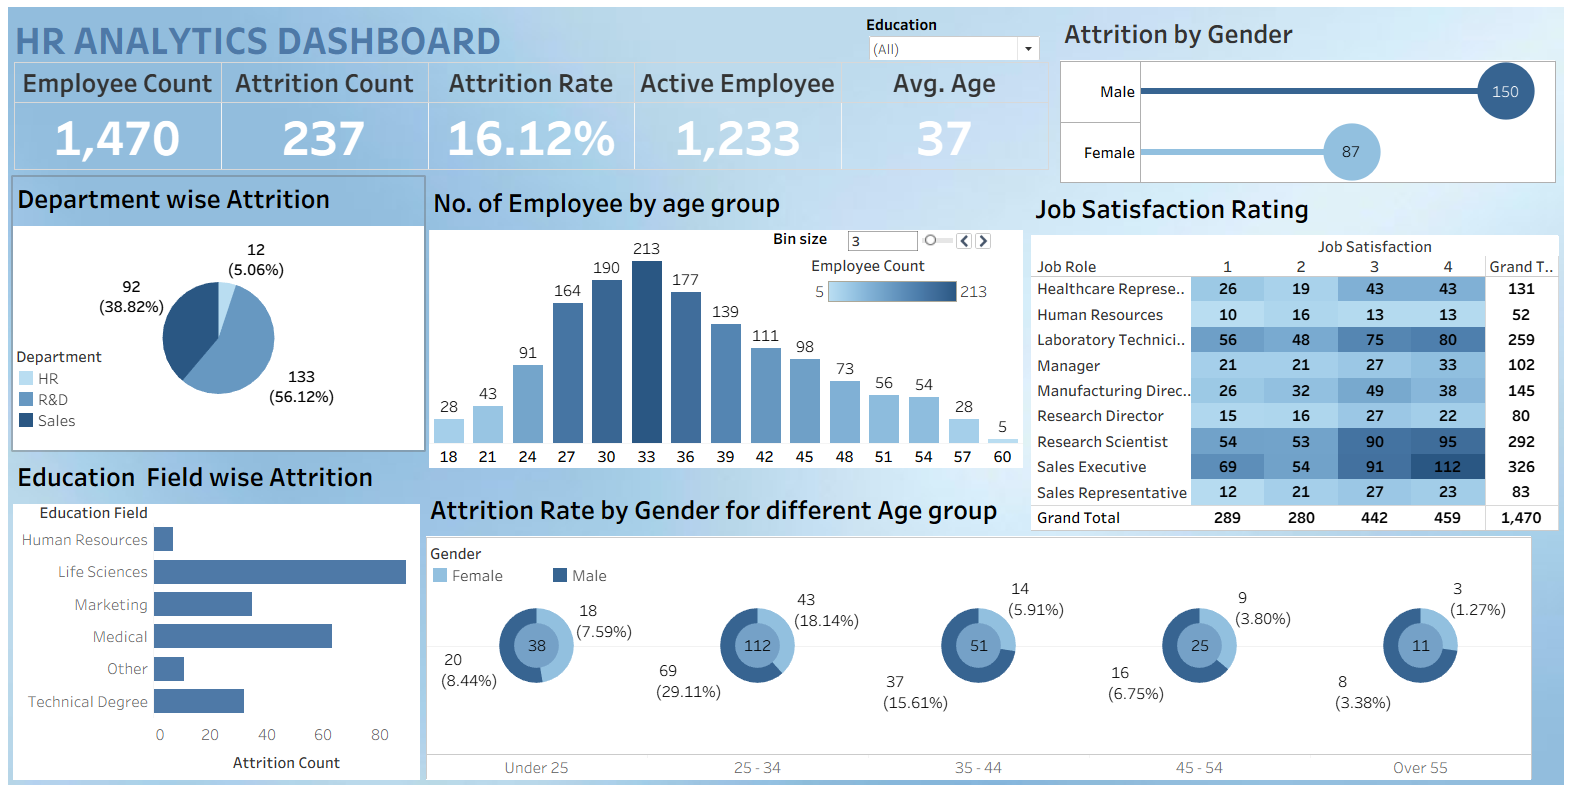

This screenshot's page, from the dashboard's own definition file:
{"tool":"tableau","page":{"name":"HR  Dashboard","canvas":[1580,900],"ordinal":0},"visuals":[{"type":"image","param":"Image/Download Free Vectors, Images, Photos & Videos _ Vecteezy.jpeg","box":[8,8,1564,884]},{"type":"text","box":[15,64,895,58]},{"type":"worksheet","title":"Attrition by Gender","mark":"Automatic","rows":["Gender"],"cols":["Calculation_0597603527974912","Calculation_0597603527974912"],"box":[1064,66,496,171]},{"type":"filter","title":"KPI","param":"[federated.1xape3u1tzvrn013wonk01smsq2d].[none:Education:nk]","box":[870,68,177,46]},{"type":"worksheet","title":"KPI","mark":"Automatic","box":[18,116,1035,108]},{"type":"worksheet","title":"Department wise Attrition","mark":"Pie","box":[17,231,411,273]},{"type":"worksheet","title":"No. of Employee by age group","mark":"Automatic","rows":["Employee Count"],"cols":["Age (bin)"],"box":[433,235,594,287]},{"type":"worksheet","title":"Job Satisfaction Rating","mark":"Square","rows":["Job Role"],"cols":["Job Satisfaction"],"box":[1035,241,528,344]},{"type":"parameter","param":"[Parameters].[Parameter 1]","box":[777,282,221,28]},{"type":"legend","title":"No. of Employee by age group","param":"[federated.1xape3u1tzvrn013wonk01smsq2d].[sum:Employee Count:qk]","box":[815,309,181,53]},{"type":"legend","title":"Department wise Attrition","param":"[federated.1xape3u1tzvrn013wonk01smsq2d].[none:Department:nk]","box":[20,400,114,88]},{"type":"worksheet","title":"Education  Field wise Attrition","mark":"Automatic","rows":["Education Field"],"cols":["Calculation_0597603527974912"],"box":[17,509,407,325]},{"type":"worksheet","title":"Attrition Rate by Gender for different Age group","mark":"Pie","rows":["Calculation_0597604158767109","Calculation_0597604158877703"],"cols":["CF_age band"],"box":[430,542,1106,292]},{"type":"legend","title":"Attrition Rate by Gender for different Age group","param":"[federated.1xape3u1tzvrn013wonk01smsq2d].[none:Gender:nk]","box":[434,597,366,43]}]}

Visuals, with their boxes on the page's 1580x900 design canvas (x1, y1, x2, y2). These are canvas units, not pixel positions in the 1572x792 screenshot, which may show the page scaled, cropped or inside an application window:
image: 8:8:1572:892
text: 15:64:910:122
"Attrition by Gender" worksheet: 1064:66:1560:237
"KPI" filter: 870:68:1047:114
"KPI" worksheet: 18:116:1053:224
"Department wise Attrition" worksheet (Pie marks): 17:231:428:504
"No. of Employee by age group" worksheet: 433:235:1027:522
"Job Satisfaction Rating" worksheet (Square marks): 1035:241:1563:585
parameter: 777:282:998:310
"No. of Employee by age group" legend: 815:309:996:362
"Department wise Attrition" legend: 20:400:134:488
"Education  Field wise Attrition" worksheet: 17:509:424:834
"Attrition Rate by Gender for different Age group" worksheet (Pie marks): 430:542:1536:834
"Attrition Rate by Gender for different Age group" legend: 434:597:800:640
